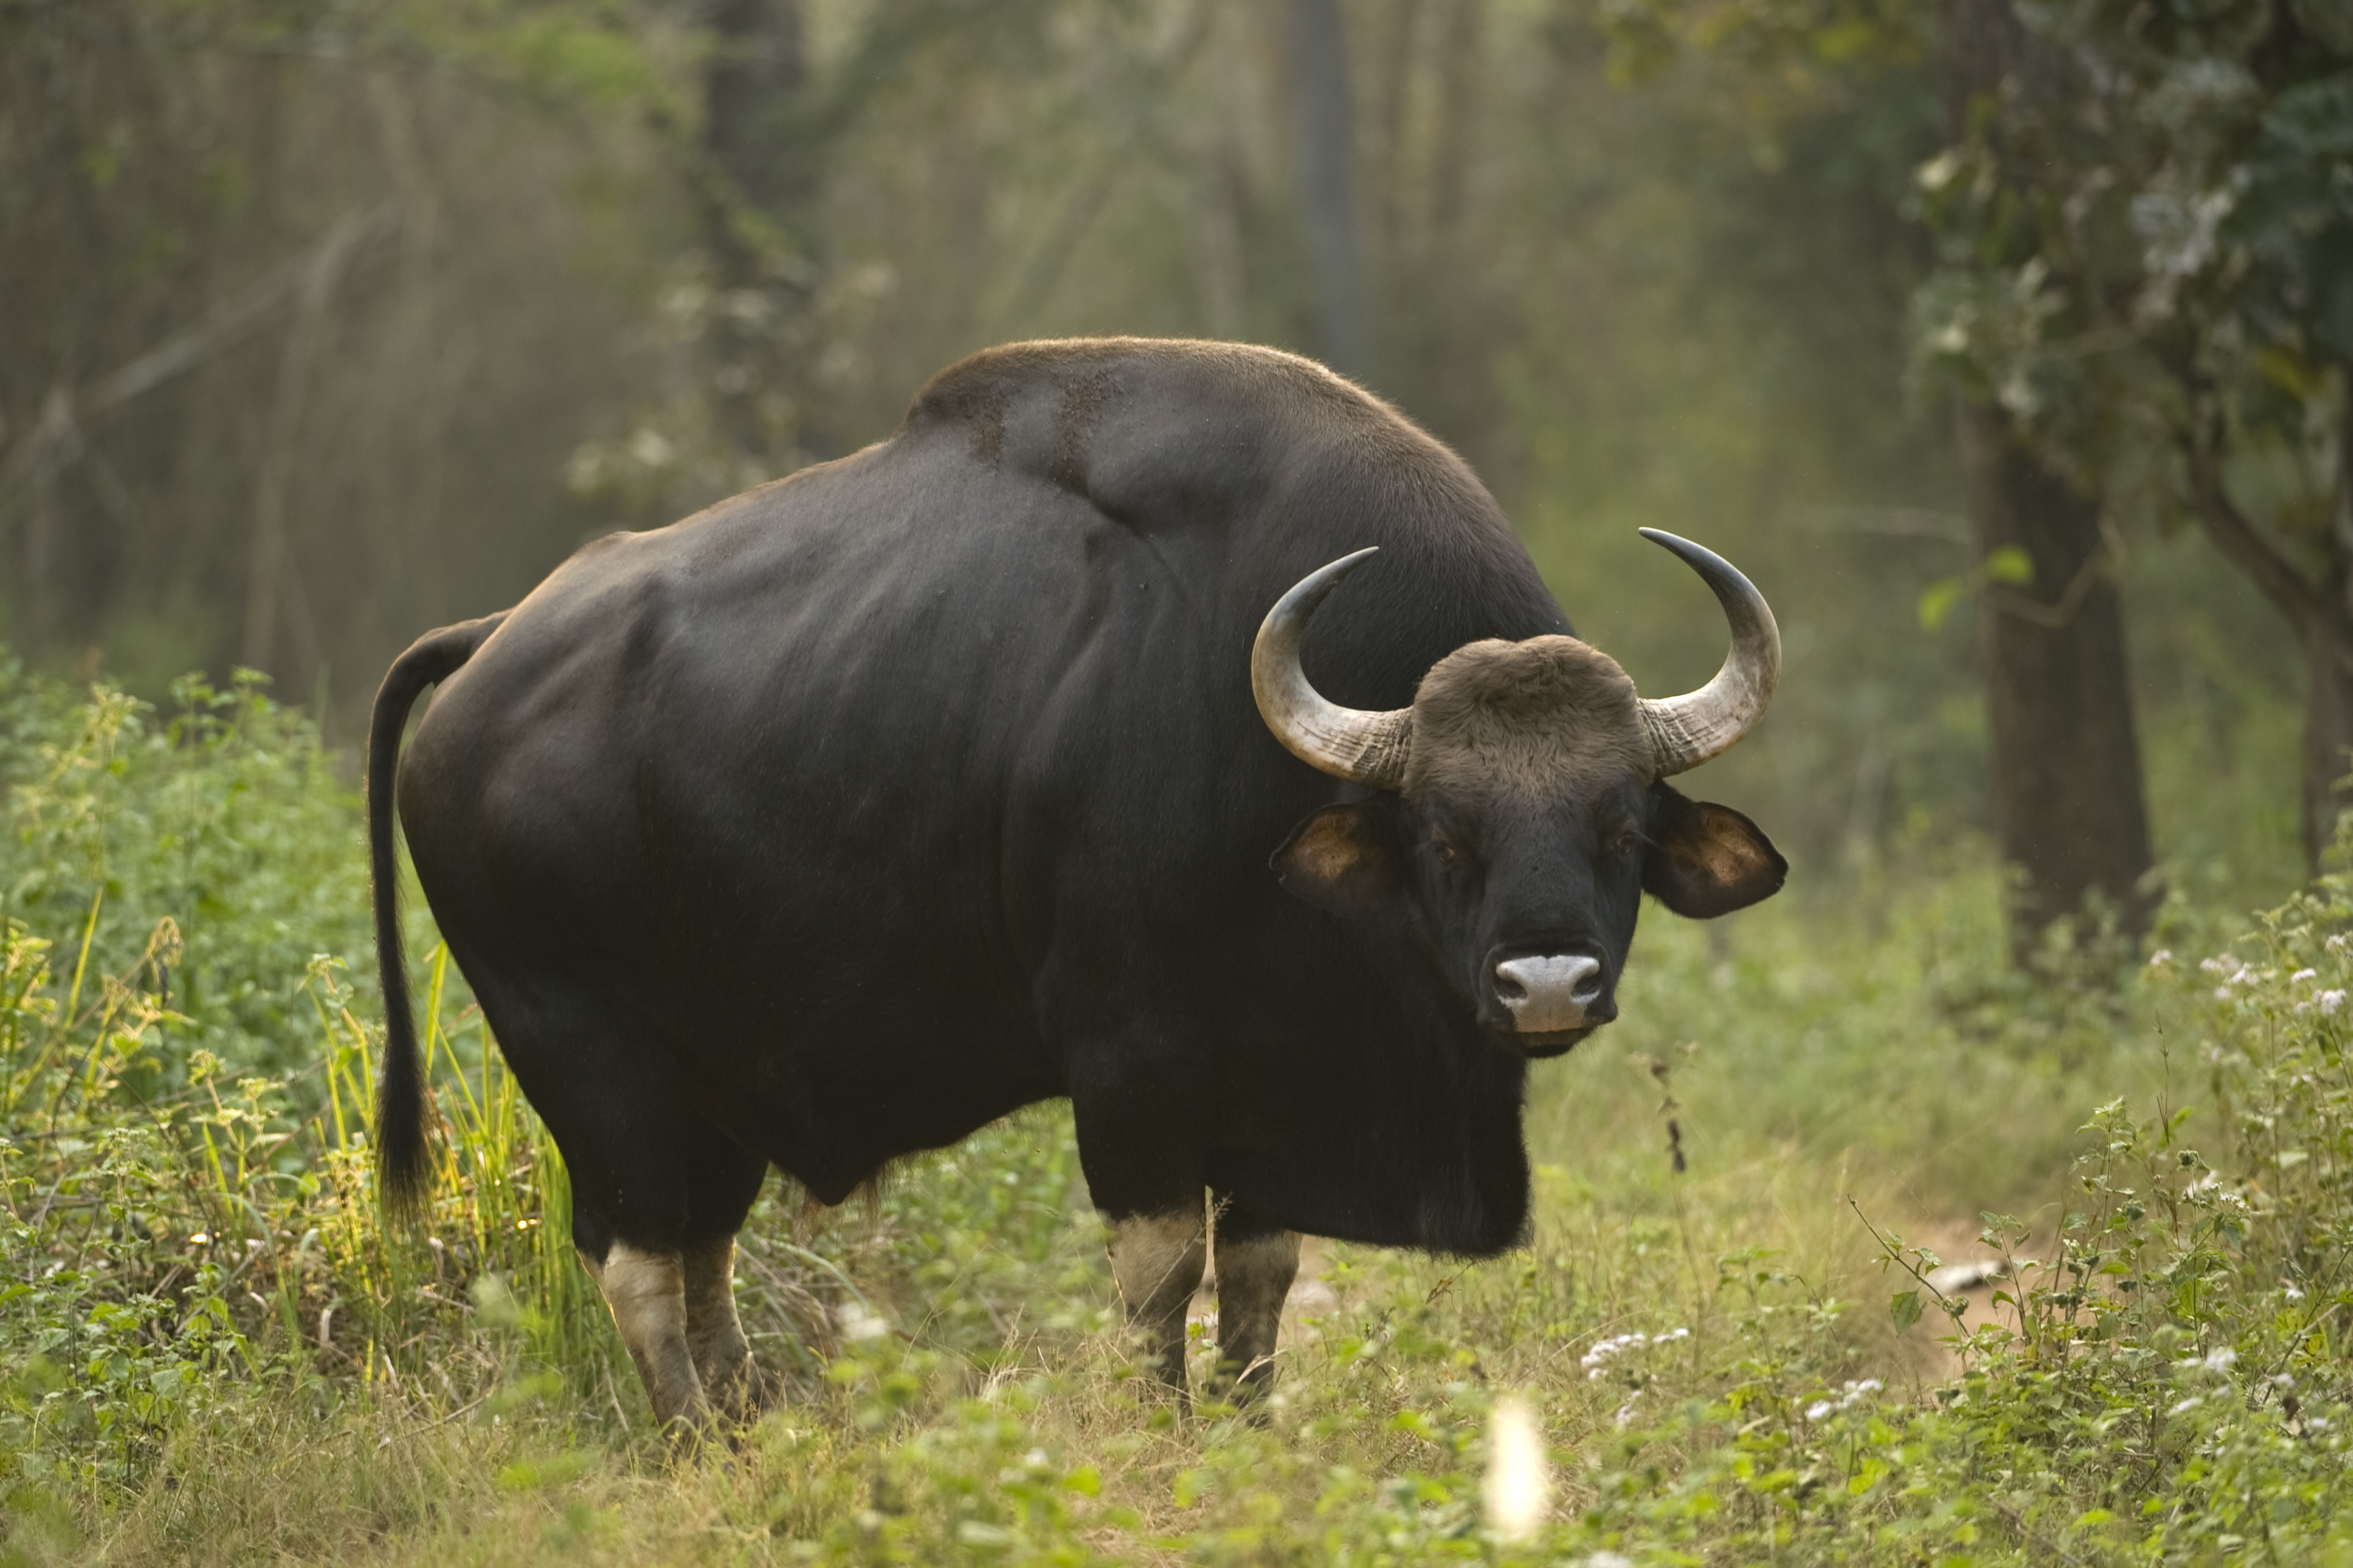bison: (357, 303, 1805, 1418)
